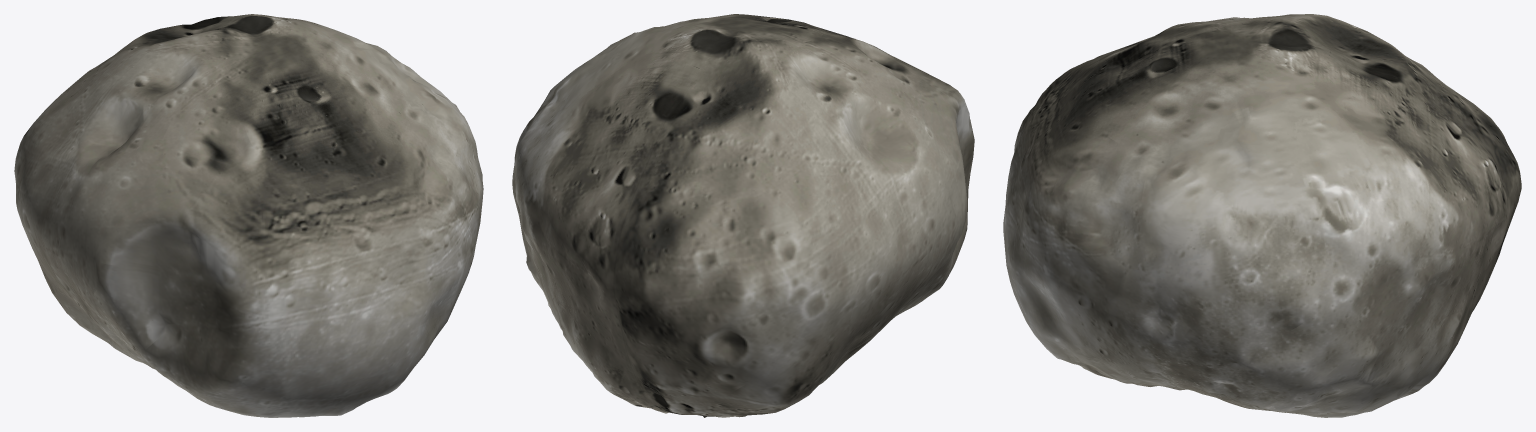
File: phobos_1_1000.glb
3 views of the same model, side by side, from view 1: azimuth 30°, elevation 25°; view 2: azimuth 150°, elevation 25°; view 3: azimuth 270°, elevation 25° (orthographic). The views are drawn at different scales.
Visible parts, largest first — view 1: phobos_0; view 2: phobos_0; view 3: phobos_0.
Part boxes in pixels (x1=…): phobos_0: x1=14, y1=14, x2=483, y2=417; phobos_0: x1=512, y1=14, x2=974, y2=417; phobos_0: x1=1003, y1=14, x2=1521, y2=417.
Size of the model in its own units: 24.34 by 20.52 by 27.04.
1 material, 1 textured.
